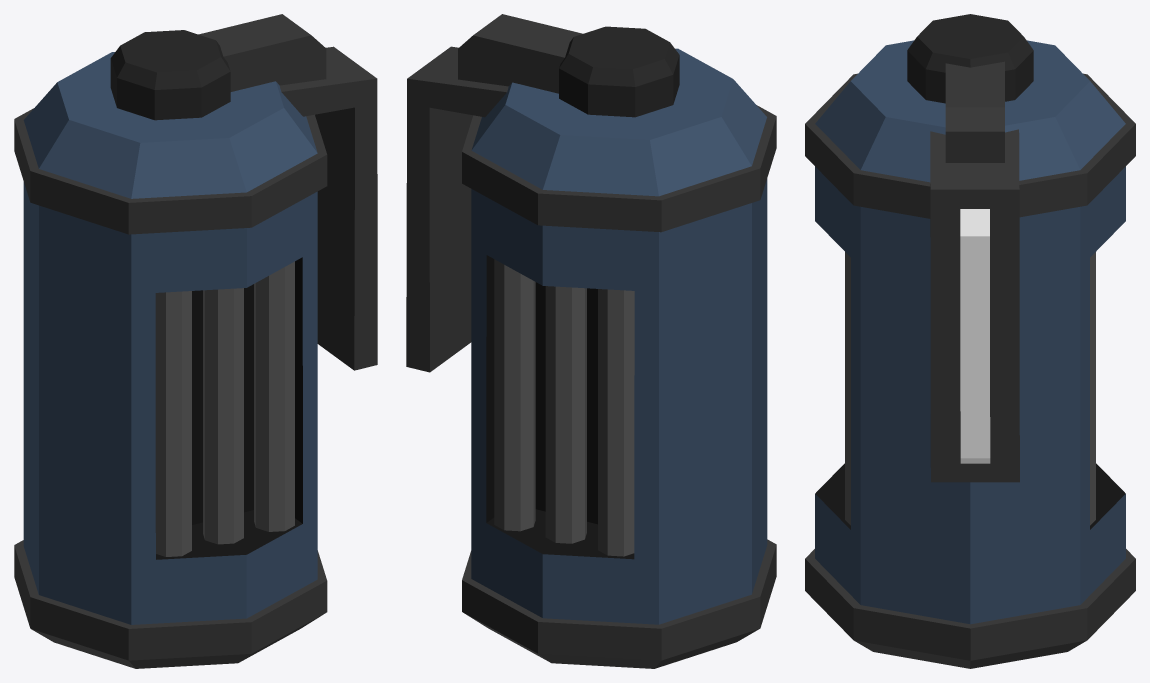
Rendered from Grenade_A_V1.FBX.
3 views of the same model, side by side, from view 1: azimuth 30°, elevation 25°; view 2: azimuth 150°, elevation 25°; view 3: azimuth 270°, elevation 25° (orthographic). The views are drawn at different scales.
Parts seen in each view (by area): view 1: Grenade_A_V1; view 2: Grenade_A_V1; view 3: Grenade_A_V1.
Part boxes in pixels (x1,y1,x2,y2): Grenade_A_V1: [14, 14, 377, 668]; Grenade_A_V1: [406, 14, 776, 668]; Grenade_A_V1: [805, 14, 1135, 668].
Bounding box in the file's own units: 33.28 × 52.81 × 27.57.
